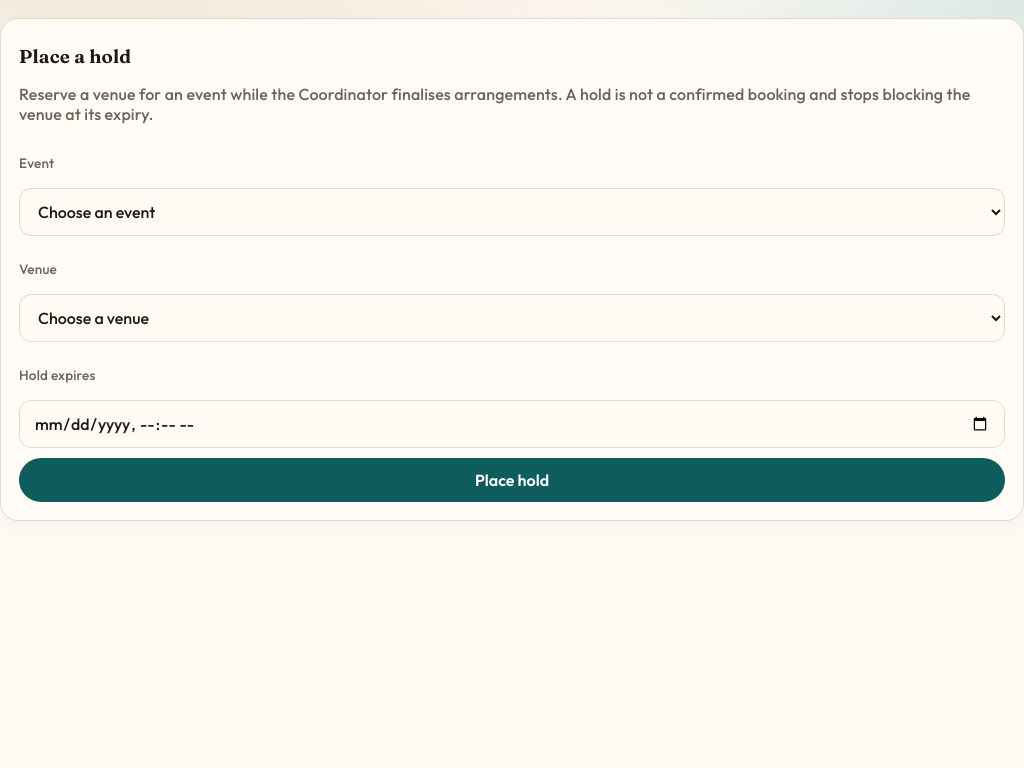
Test case: SCRUM-75 PlaceHoldCard › US75-F04: sends no expiry when none is picked, and shows the server's message
This screenshot has width=1024, height=768.
Select "Tech Talk" in the dropdown labelled "Event". click: (512,212)
box: [19,188,1005,236]
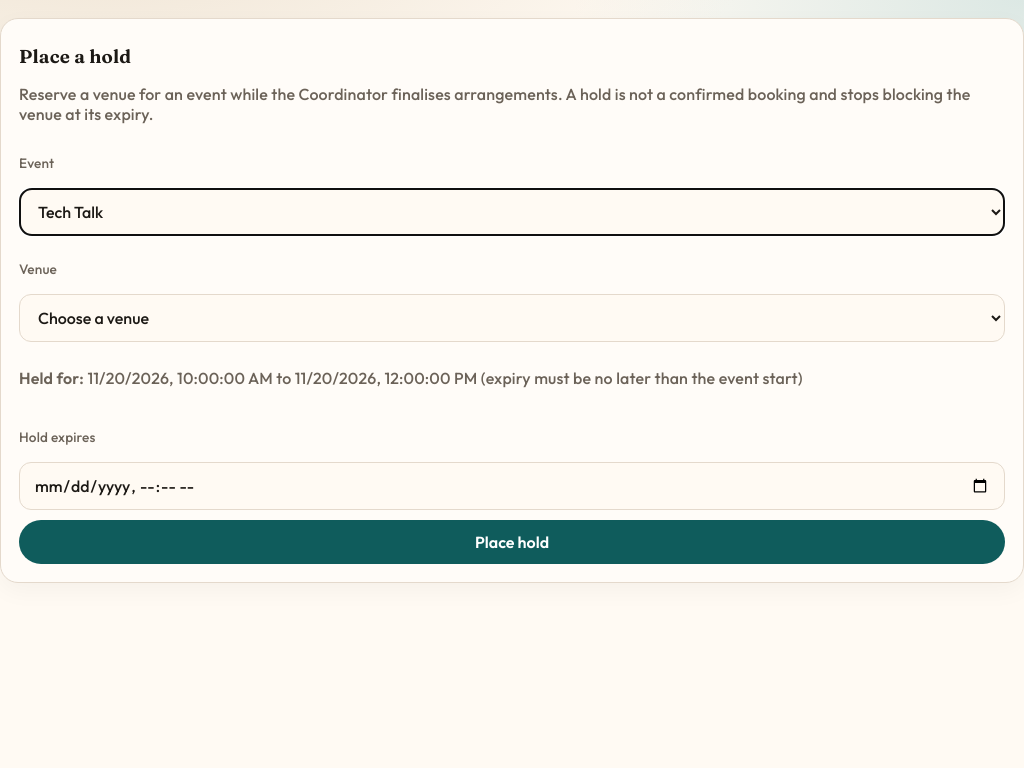
Select "Hall A" in the dropdown labelled "Venue". click: (512,318)
box: [19,294,1005,342]
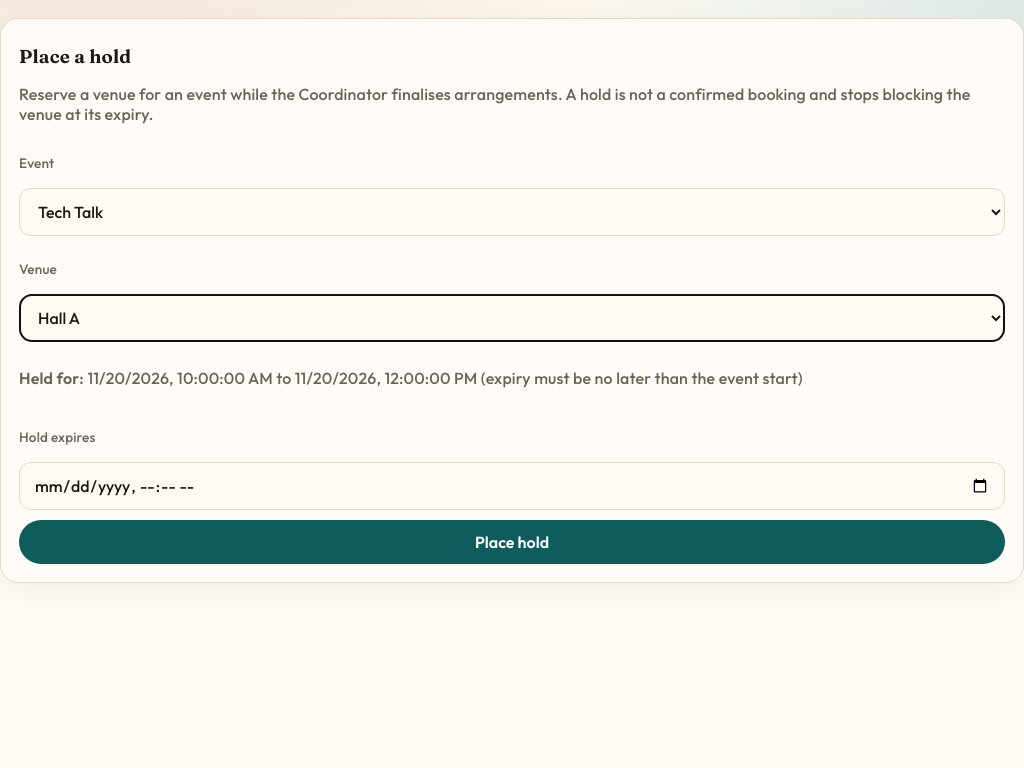
Click the button "Place hold". click: (512,542)
box: [19,520,1005,564]
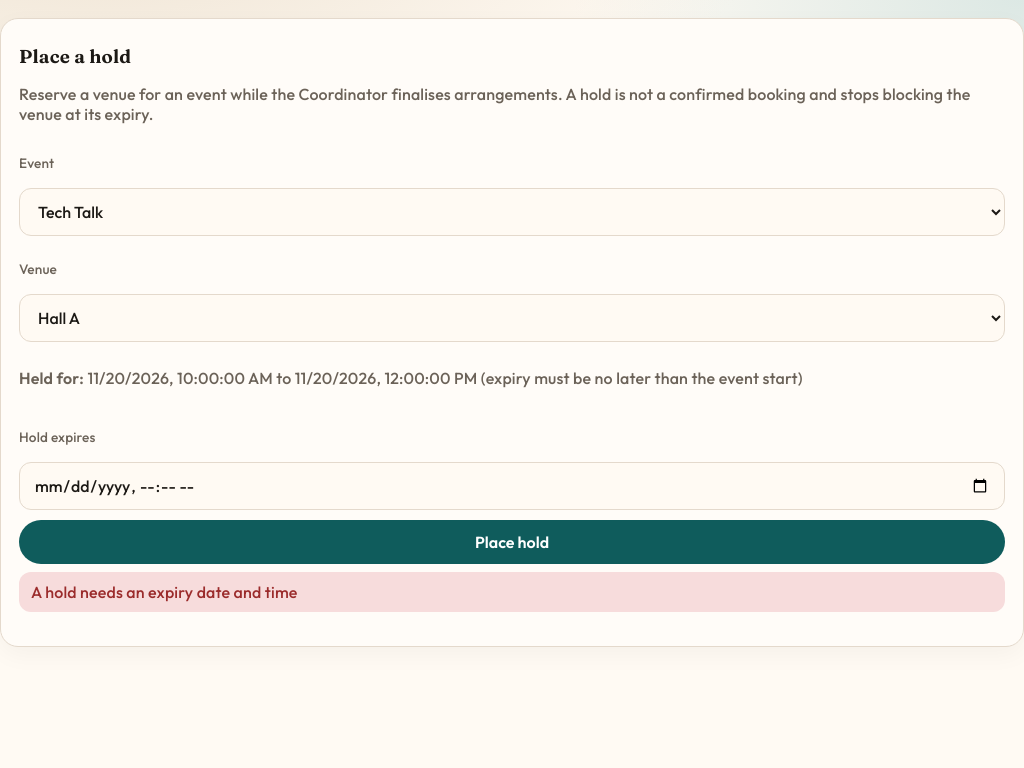
Now the text "A hold needs an expiry date and time" is shown, box [19,572,1005,612]
